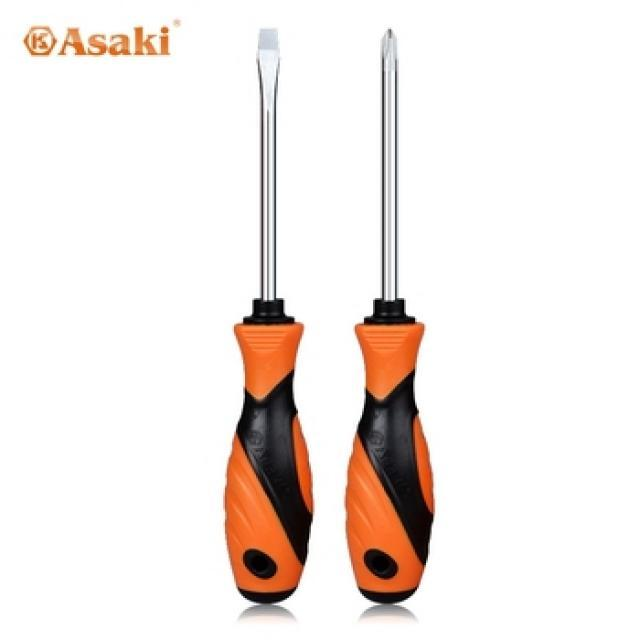screwdriver: (218, 20, 322, 608), (338, 21, 441, 608)
